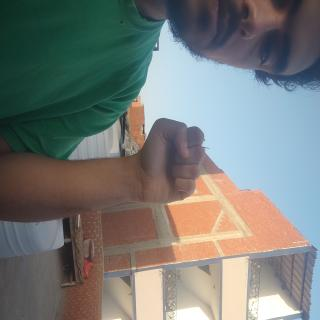SAD: (85, 150, 159, 246)
